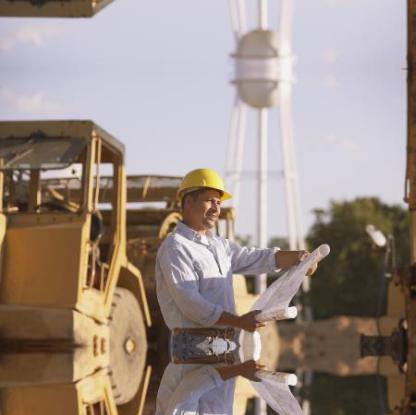Hardhat: (177, 168, 233, 205)
NO-Mask: (187, 204, 220, 229)
NO-Safety Vest: (159, 229, 237, 324)
Person: (157, 167, 319, 332)
